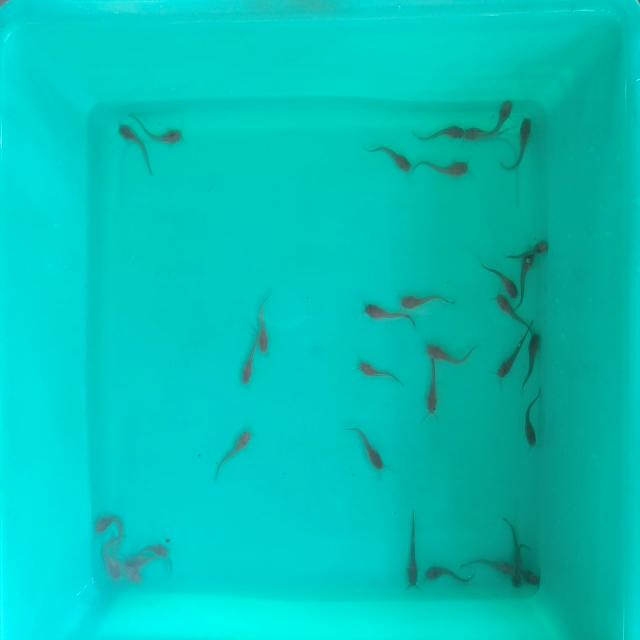lele: (211, 428, 257, 484), (344, 420, 387, 473), (121, 121, 159, 176), (131, 112, 184, 151), (473, 262, 520, 298), (367, 140, 416, 174), (362, 303, 419, 330), (353, 357, 405, 386), (422, 338, 472, 368), (424, 563, 478, 587), (414, 157, 469, 180), (405, 507, 421, 586), (522, 333, 544, 390), (523, 389, 545, 446), (498, 325, 519, 383), (494, 295, 530, 328), (468, 554, 514, 577), (514, 117, 533, 172), (241, 328, 257, 387), (522, 539, 539, 591), (398, 294, 453, 310), (515, 232, 550, 255), (520, 252, 535, 305), (258, 296, 270, 358), (417, 125, 463, 141), (426, 361, 438, 422), (512, 516, 521, 588), (104, 534, 118, 580), (498, 100, 516, 133), (135, 542, 175, 556), (465, 124, 496, 142), (94, 515, 124, 532), (120, 554, 158, 566), (121, 568, 142, 584)
